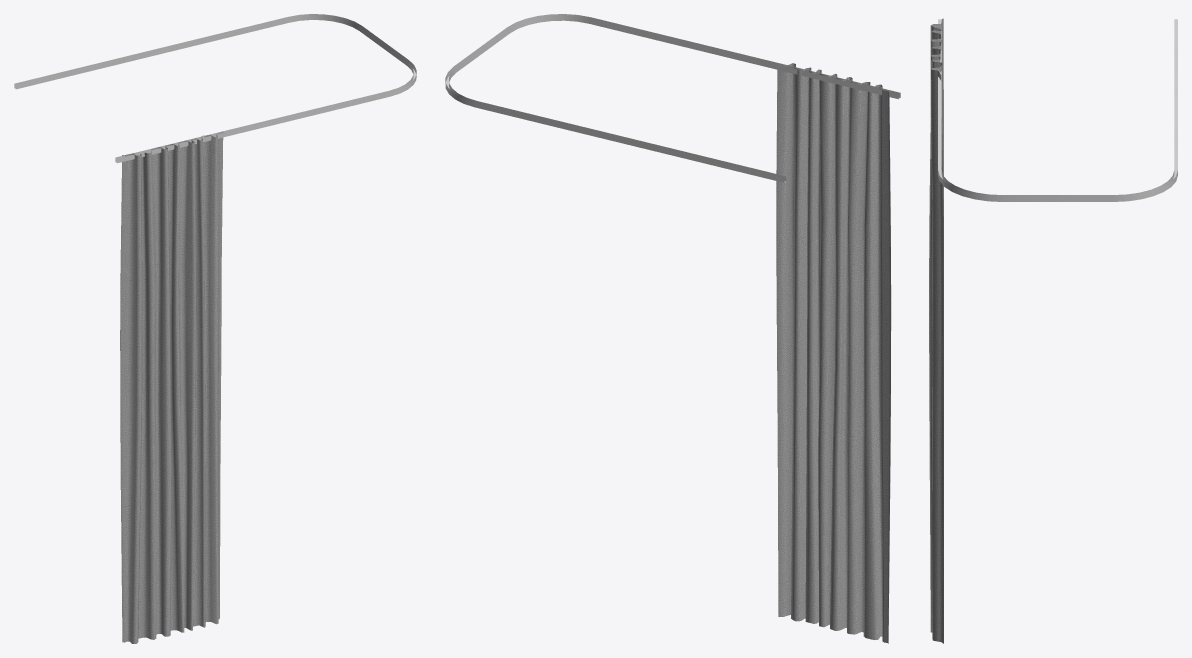
File: SM_检查室_拉帘_01.fbx
3 views of the same model, side by side, from view 1: azimuth 30°, elevation 25°; view 2: azimuth 150°, elevation 25°; view 3: azimuth 270°, elevation 25° (orthographic). The views are drawn at different scales.
Parts seen in each view (by area): view 1: SM_检查室_拉帘_01; view 2: SM_检查室_拉帘_01; view 3: SM_检查室_拉帘_01.
Boxes of the visible parts, left/top/right/bottom form: SM_检查室_拉帘_01: left=14, top=14, right=416, bottom=643; SM_检查室_拉帘_01: left=445, top=14, right=900, bottom=643; SM_检查室_拉帘_01: left=929, top=18, right=1177, bottom=643.
Size of the model in its own units: 2156 by 3137 by 1242.
